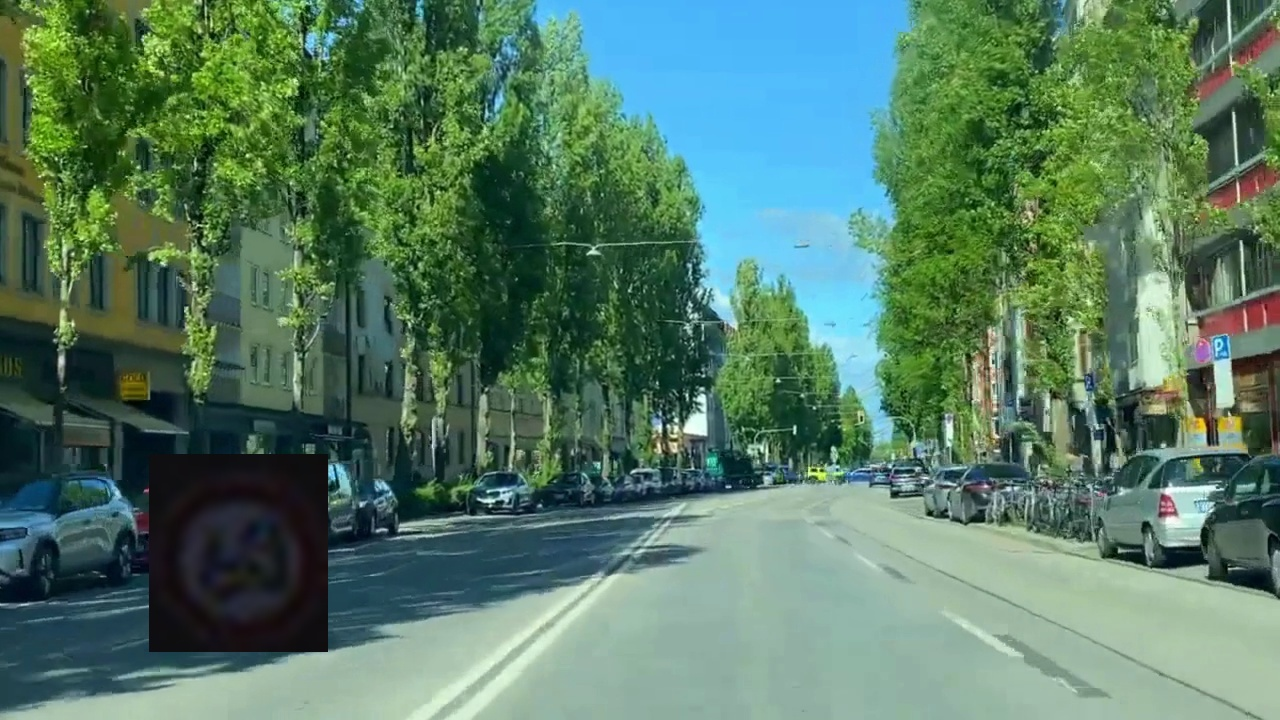Speed 60: (149, 454, 328, 652)
